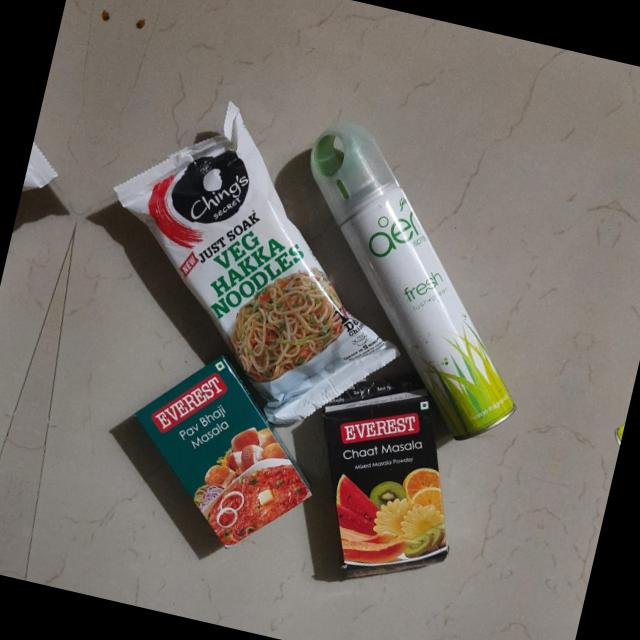Chings Secret Veg Hakka Noodles 140 g Pouch: (61, 112, 418, 448)
Everest Chaat Masala 50 g: (284, 370, 488, 594)
Everest Pav Bhaji Masala 100 g: (102, 336, 344, 572)
Godrej Aer Lush Green Fresh Home Fragrance Spray 220 ml: (256, 103, 568, 452)
